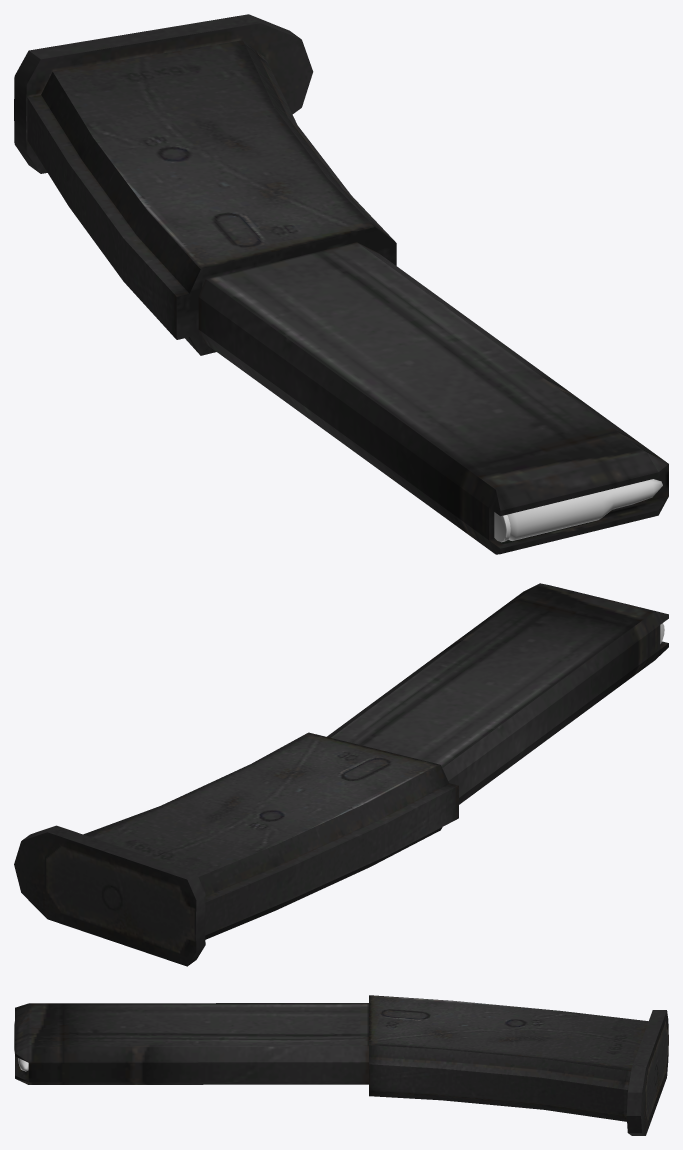
The model's file is t6_attach_mag_mp7_view_LOD0.obj.
3 renders of one model, top to bottom at view 1: azimuth 30°, elevation 25°; view 2: azimuth 150°, elevation 25°; view 3: azimuth 270°, elevation 25°, orthographic. The views are drawn at different scales.
Parts seen in each view (by area): view 1: mtl_t6_wpn_smg_mp7_camo1, mtl_t6_wpn_smg_mp7_camo3, mtl_t6_attach_bullet; view 2: mtl_t6_wpn_smg_mp7_camo1, mtl_t6_wpn_smg_mp7_camo3; view 3: mtl_t6_wpn_smg_mp7_camo1, mtl_t6_wpn_smg_mp7_camo3.
Part boxes in pixels (box(x1,y1,x2,y2)): mtl_t6_wpn_smg_mp7_camo1: box(14, 14, 668, 554); mtl_t6_wpn_smg_mp7_camo3: box(27, 95, 189, 339); mtl_t6_attach_bullet: box(494, 479, 662, 542); mtl_t6_wpn_smg_mp7_camo1: box(14, 583, 668, 966); mtl_t6_wpn_smg_mp7_camo3: box(205, 783, 458, 935); mtl_t6_wpn_smg_mp7_camo1: box(15, 995, 668, 1135); mtl_t6_wpn_smg_mp7_camo3: box(369, 1064, 627, 1115).
Size of the model in its own units: 8.24 by 2.54 by 22.32.
